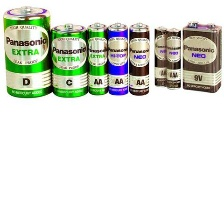battery: (1, 1, 56, 101), (47, 21, 90, 99), (181, 18, 223, 94), (106, 20, 131, 97), (126, 19, 150, 98), (87, 19, 110, 98), (152, 23, 170, 89), (165, 24, 181, 91)
